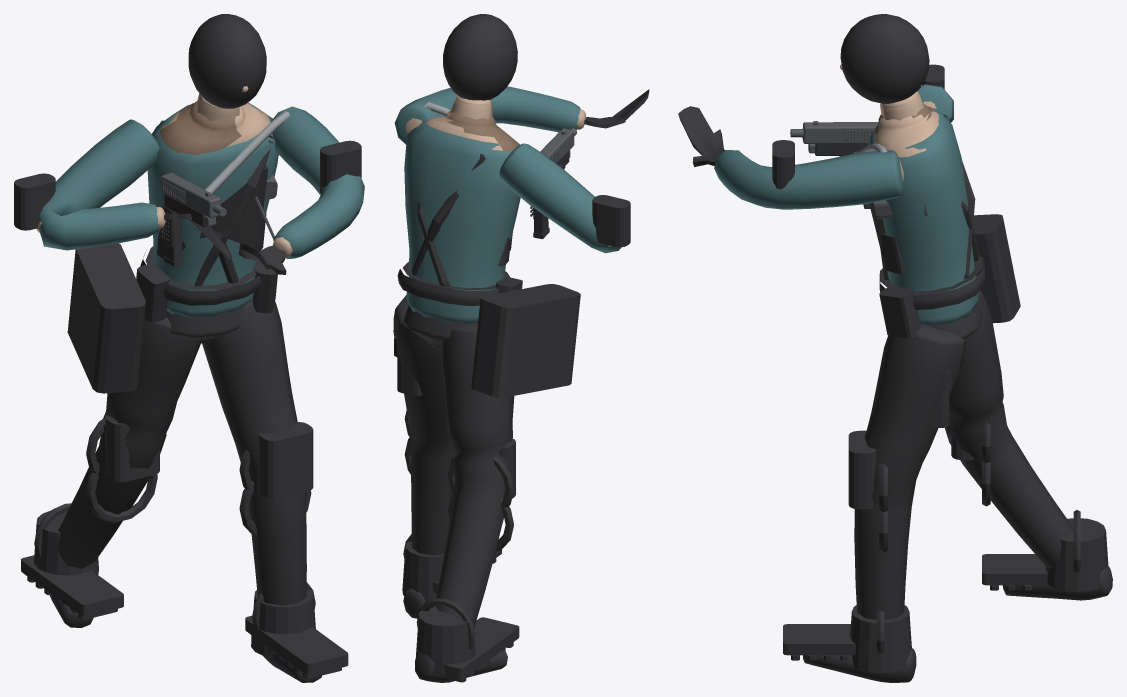
File: arctic-station-fps-kit-attacker-light-aiming-5612f2b9__28521.glb
The picture shows the model from 3 angles, left to right: view 1: azimuth 30°, elevation 25°; view 2: azimuth 150°, elevation 25°; view 3: azimuth 270°, elevation 25°; orthographic projection. The views are drawn at different scales.
Visible parts, largest first — view 1: attacker-light-aiming; view 2: attacker-light-aiming; view 3: attacker-light-aiming.
Boxes of the visible parts, x1=… form: attacker-light-aiming: x1=14, y1=14, x2=364, y2=682; attacker-light-aiming: x1=393, y1=14, x2=649, y2=682; attacker-light-aiming: x1=678, y1=14, x2=1112, y2=682.
Size of the model in its own units: 0.7477 by 1.71 by 1.06.
